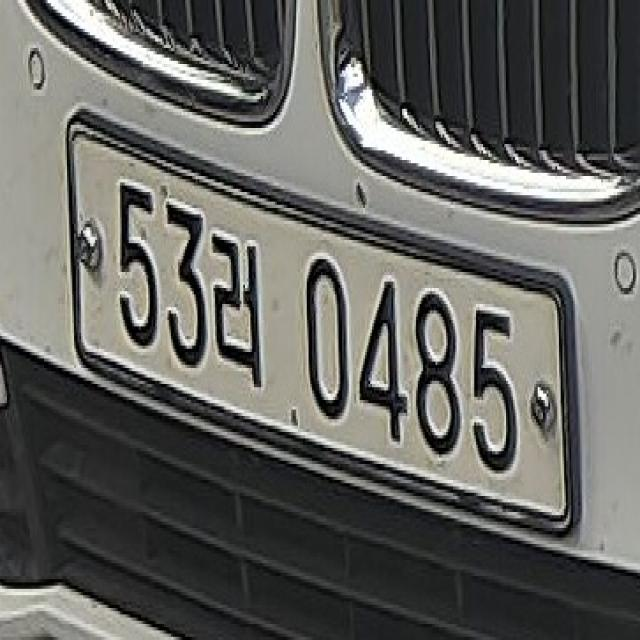0: (300, 240, 358, 438)
3: (162, 186, 215, 397)
4: (358, 253, 411, 461)
5: (462, 294, 529, 493), (102, 157, 162, 358)
8: (411, 275, 464, 477)
leo: (208, 224, 272, 390)
license_plate: (58, 112, 582, 547)
